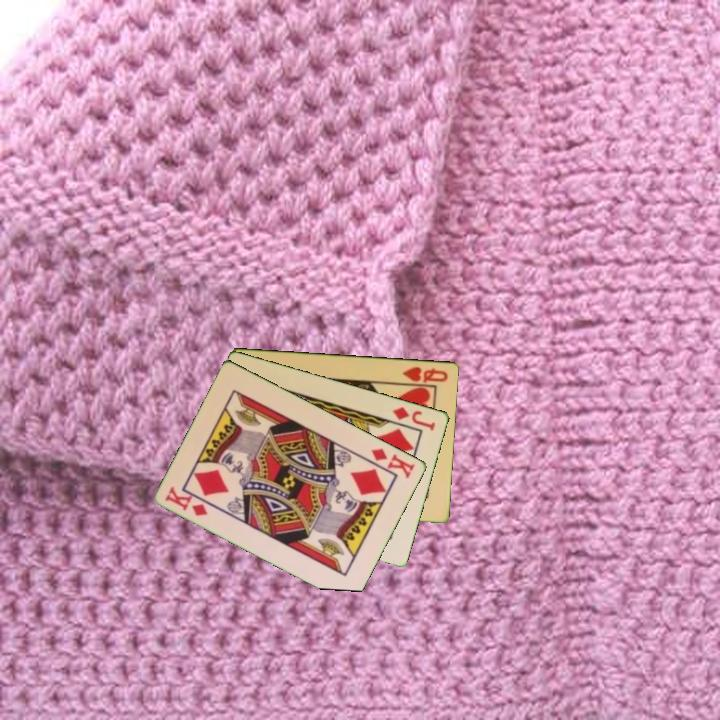Jd: (389, 403, 439, 433)
Kd: (368, 444, 418, 481), (162, 483, 211, 519)
Qh: (399, 363, 451, 385)
